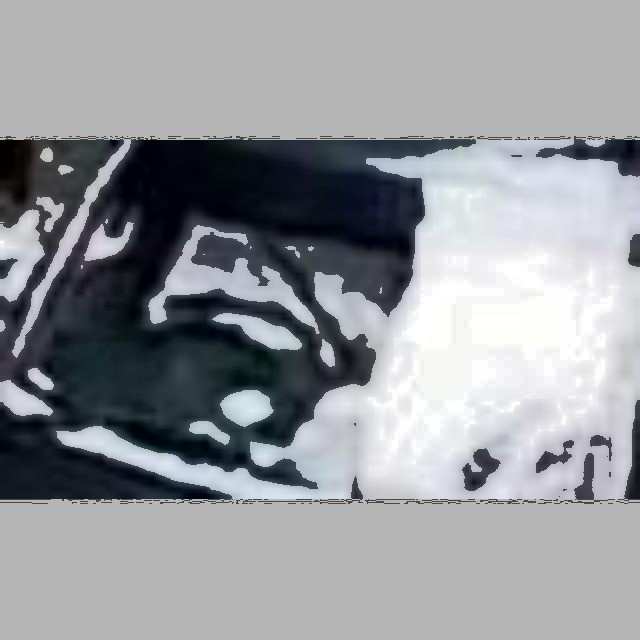pakai: (150, 218, 372, 375)
